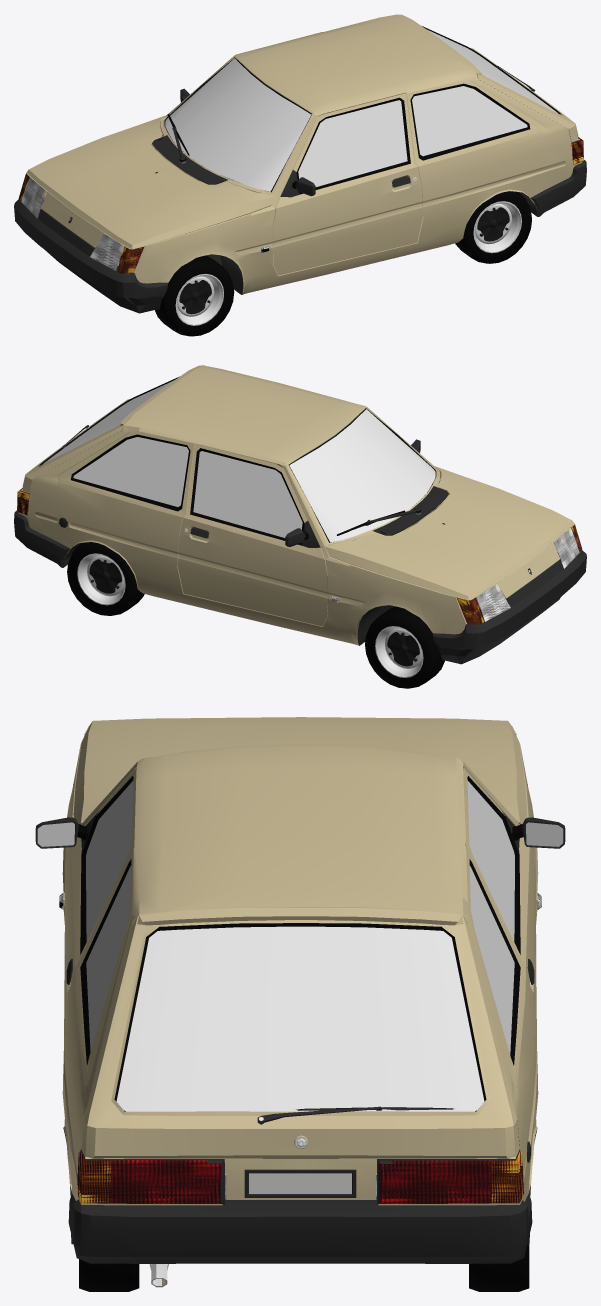
The model's file is car2.fbx.
The picture shows the model from 3 angles, top to bottom: view 1: azimuth 30°, elevation 25°; view 2: azimuth 150°, elevation 25°; view 3: azimuth 270°, elevation 25°; orthographic projection. The views are drawn at different scales.
Visible parts, largest first — view 1: Body, Wheel.F, Wheel.R; view 2: Body, Wheel.F, Wheel.R; view 3: Body, Wheel.R.
Boxes of the visible parts, bbox=[...] form: Body: bbox=[14, 14, 586, 313]; Wheel.F: bbox=[155, 255, 234, 336]; Wheel.R: bbox=[455, 191, 531, 263]; Body: bbox=[14, 365, 586, 664]; Wheel.F: bbox=[365, 606, 444, 688]; Wheel.R: bbox=[67, 542, 144, 615]; Body: bbox=[35, 717, 565, 1287]; Wheel.R: bbox=[79, 1244, 529, 1291].
Size of the model in its own units: 377 by 141 by 181.
9 materials, 2 textured.
